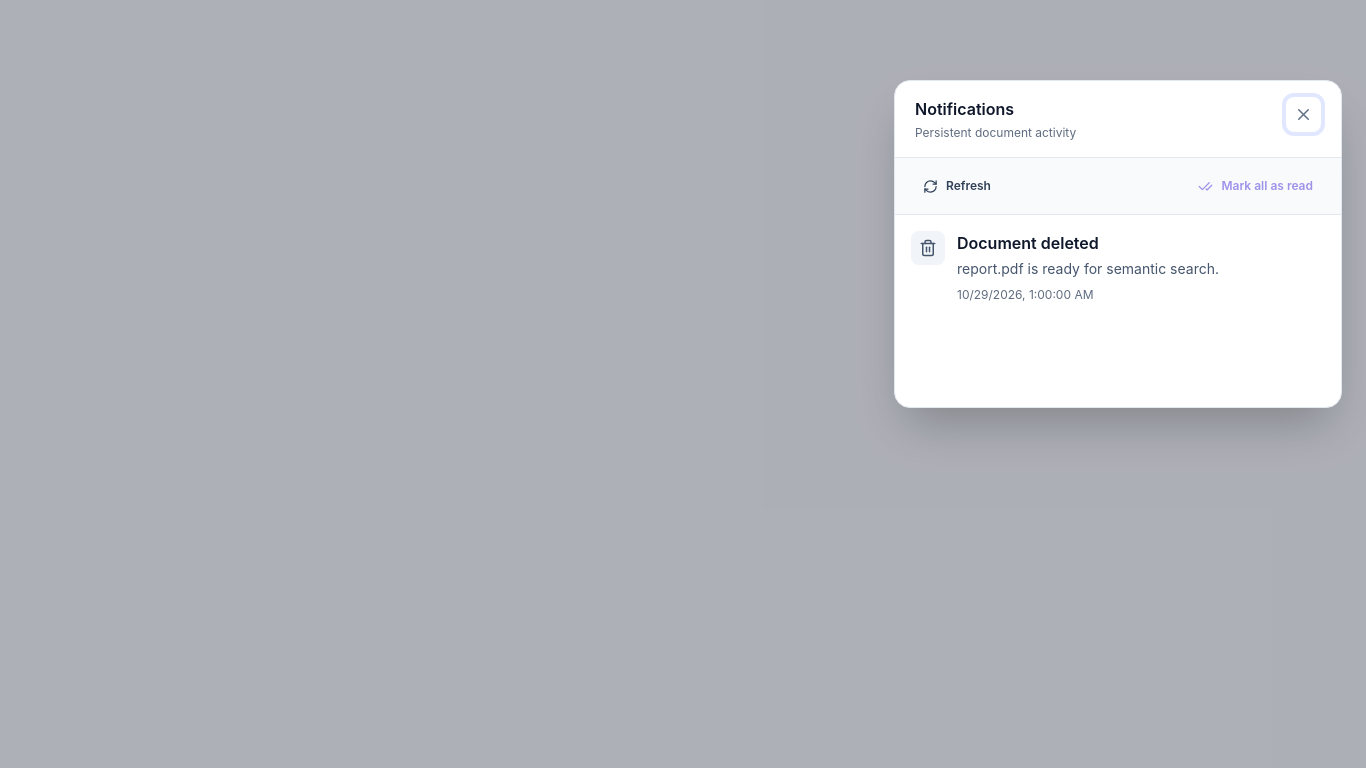
Test case: NotificationCenter › keeps deleted document notifications without opening a missing file
The width and height of the screenshot is (1366, 768).
Click the button "Document deleted": x=1141, y=267 [957,231,1325,303]
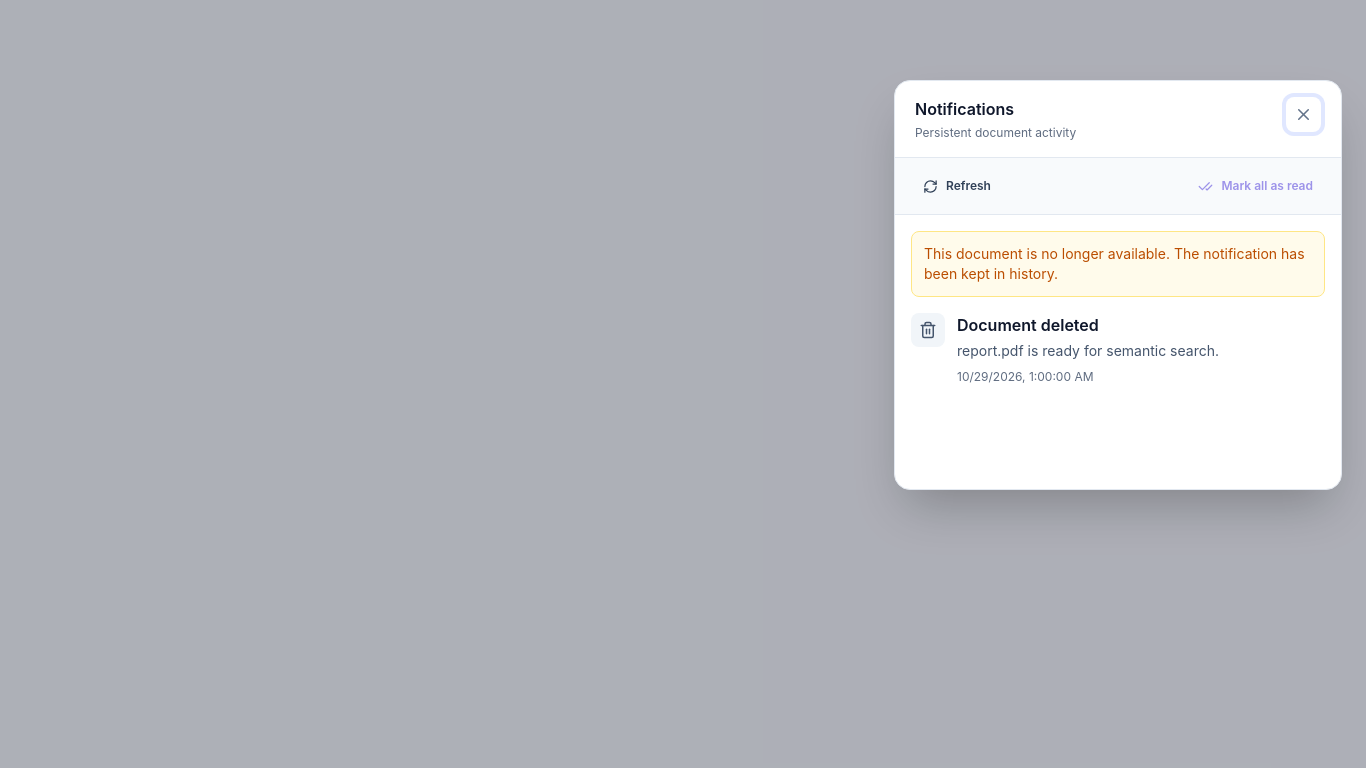
Expected: the text "no longer available" is shown, [924,245,1305,282]
